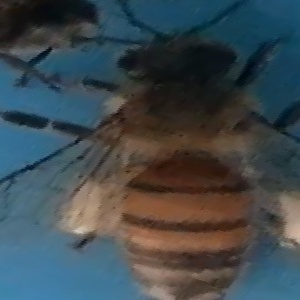bee: (103, 23, 298, 300)
